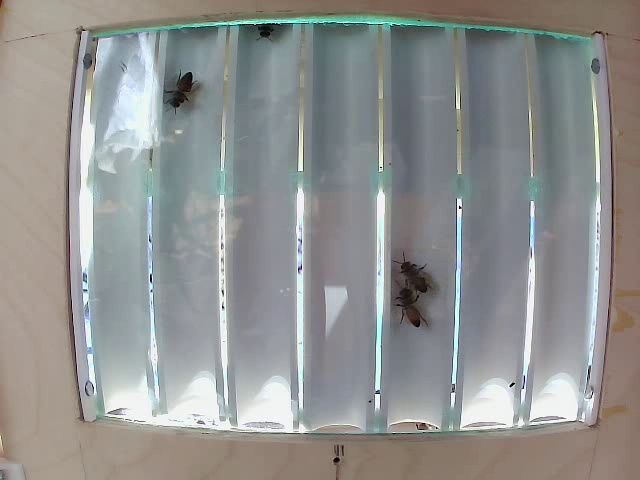bee: (389, 251, 438, 306), (161, 54, 197, 111), (392, 284, 428, 327)
